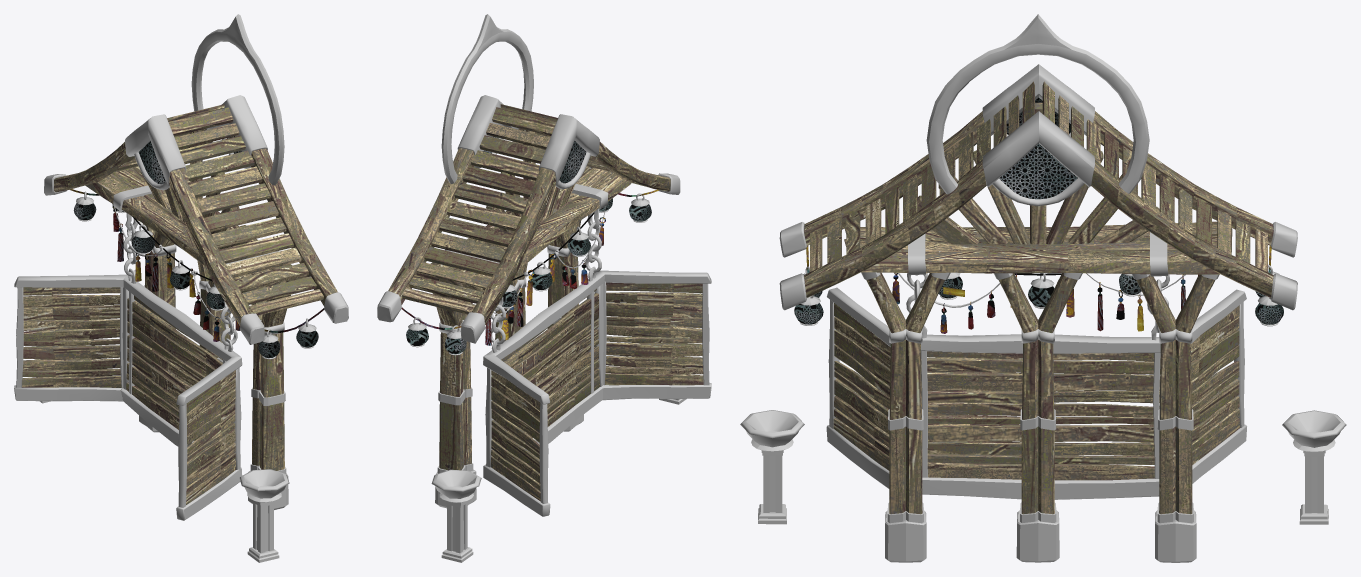
Rendered from EventTimers2.obj.
3 views of the same model, side by side, from view 1: azimuth 30°, elevation 25°; view 2: azimuth 150°, elevation 25°; view 3: azimuth 270°, elevation 25° (orthographic). The views are drawn at different scales.
Visible parts, largest first — view 1: black_lion_board, black_lion_board_2, black_lion_board_hanging_2, black_lion_board_hanging_1; view 2: black_lion_board, black_lion_board_2, black_lion_board_hanging_2, black_lion_board_hanging_1; view 3: black_lion_board, black_lion_board_2, black_lion_board_hanging_2, black_lion_board_hanging_1.
Part boxes in pixels (x1,y1,x2,y2): black_lion_board: (22,104,337,504); black_lion_board_2: (14,14,348,562); black_lion_board_hanging_2: (73,136,318,358); black_lion_board_hanging_1: (70,189,323,341); black_lion_board: (388,104,703,501); black_lion_board_2: (377,14,711,562); black_lion_board_hanging_2: (406,136,651,354); black_lion_board_hanging_1: (401,189,659,345); black_lion_board: (804,81,1273,514); black_lion_board_2: (740,14,1346,562); black_lion_board_hanging_2: (794,97,1283,324); black_lion_board_hanging_1: (806,245,1271,333).
Size of the model in its own units: 8.05 by 22.53 by 22.31.
